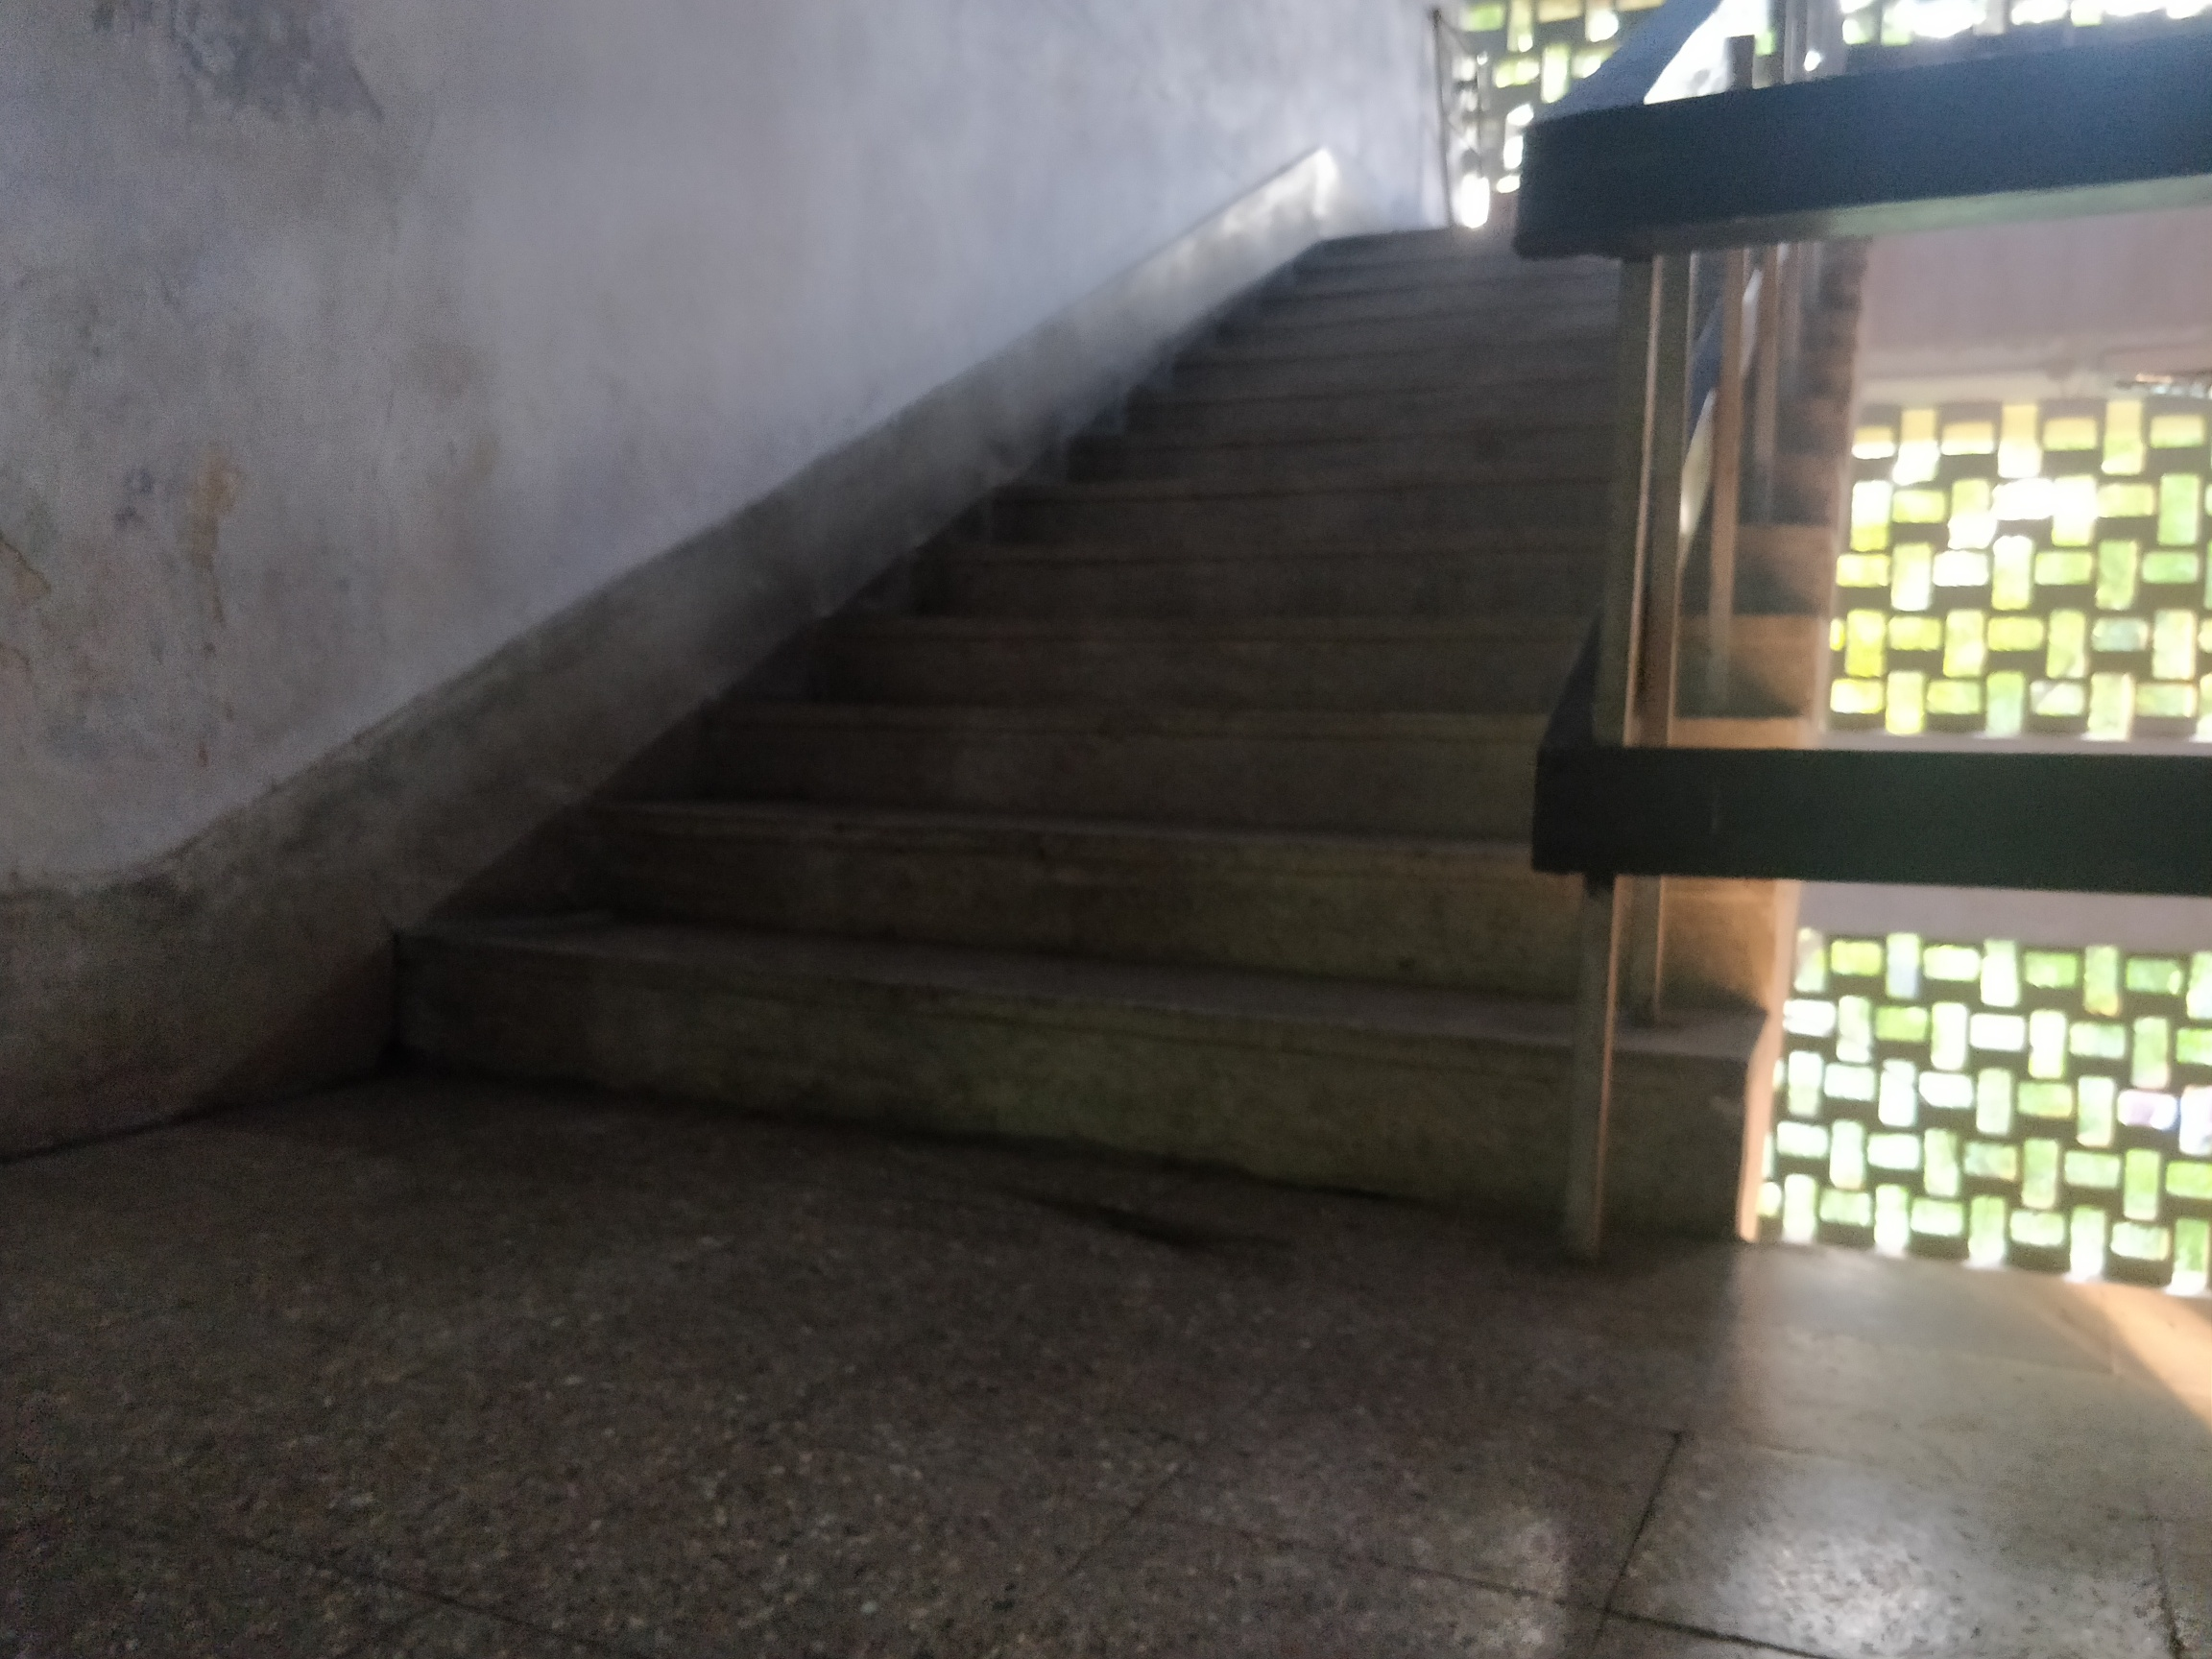stairs_up: (354, 190, 1895, 1171)
